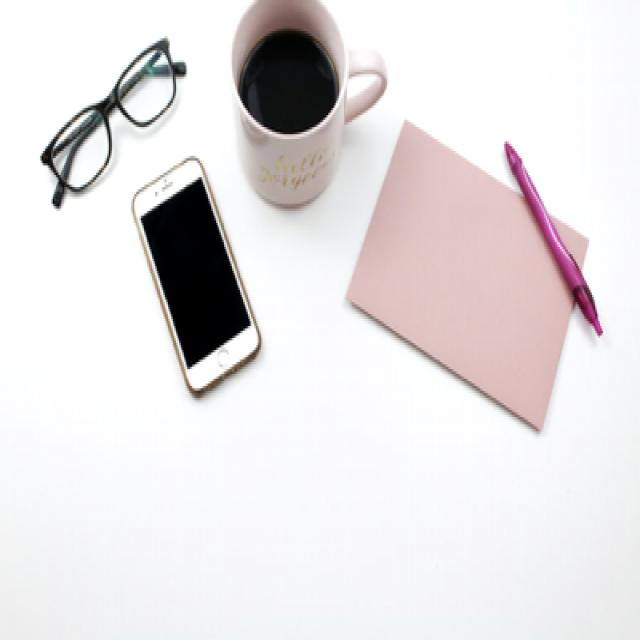cellphone: (130, 154, 260, 396)
